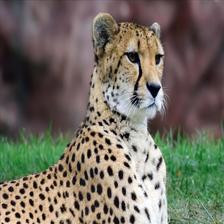Cheetah: (0, 10, 174, 223)
